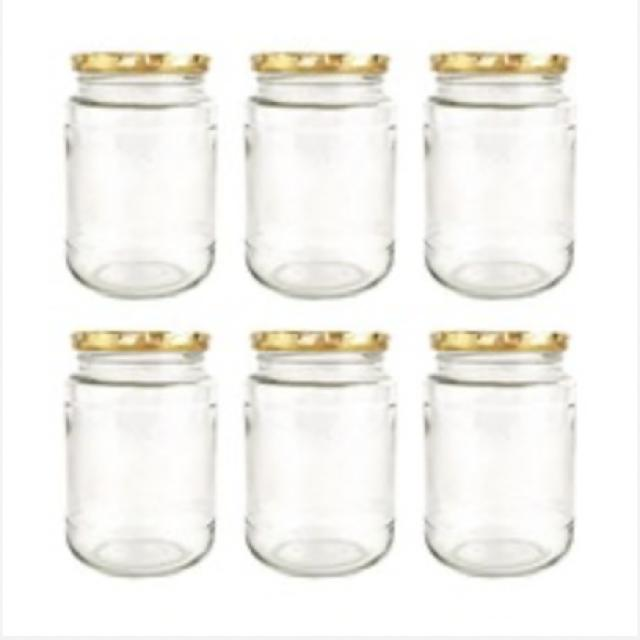recyclable: (56, 74, 232, 306), (415, 76, 582, 305), (233, 363, 406, 582), (242, 75, 404, 305), (416, 363, 586, 581), (52, 366, 222, 582)
